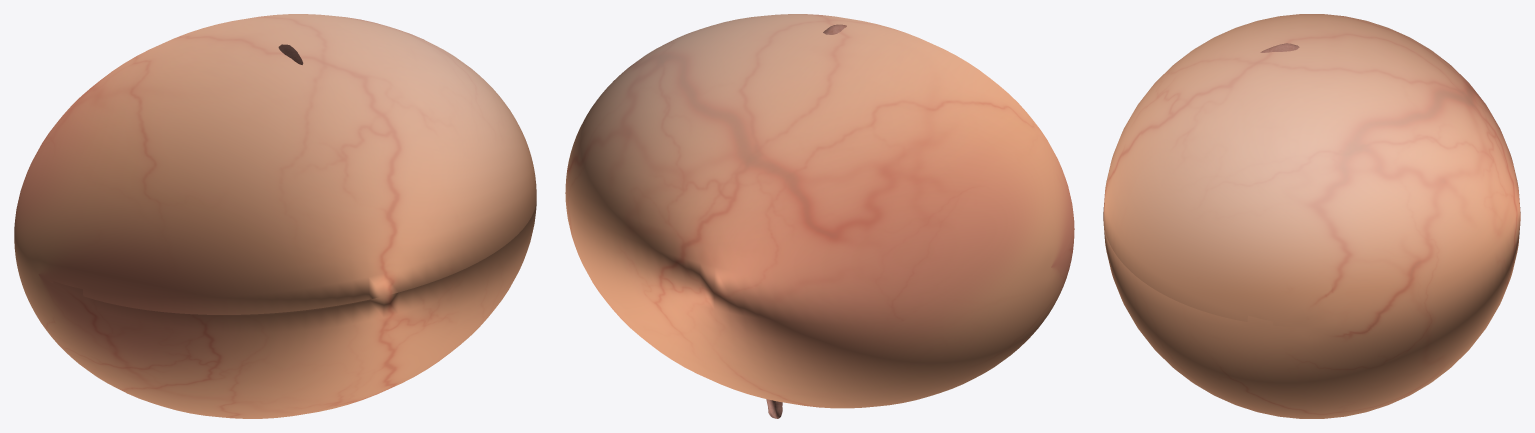
3 views of the same model, side by side, from view 1: azimuth 30°, elevation 25°; view 2: azimuth 150°, elevation 25°; view 3: azimuth 270°, elevation 25° (orthographic). The views are drawn at different scales.
Parts seen in each view (by area): view 1: default; view 2: default; view 3: default.
Part boxes in pixels (x1=…): default: x1=14, y1=14, x2=536, y2=418; default: x1=565, y1=14, x2=1074, y2=408; default: x1=1103, y1=14, x2=1520, y2=418.
Size of the model in its own units: 9.35 by 6.79 by 7.44.
6 materials, 6 textured.
